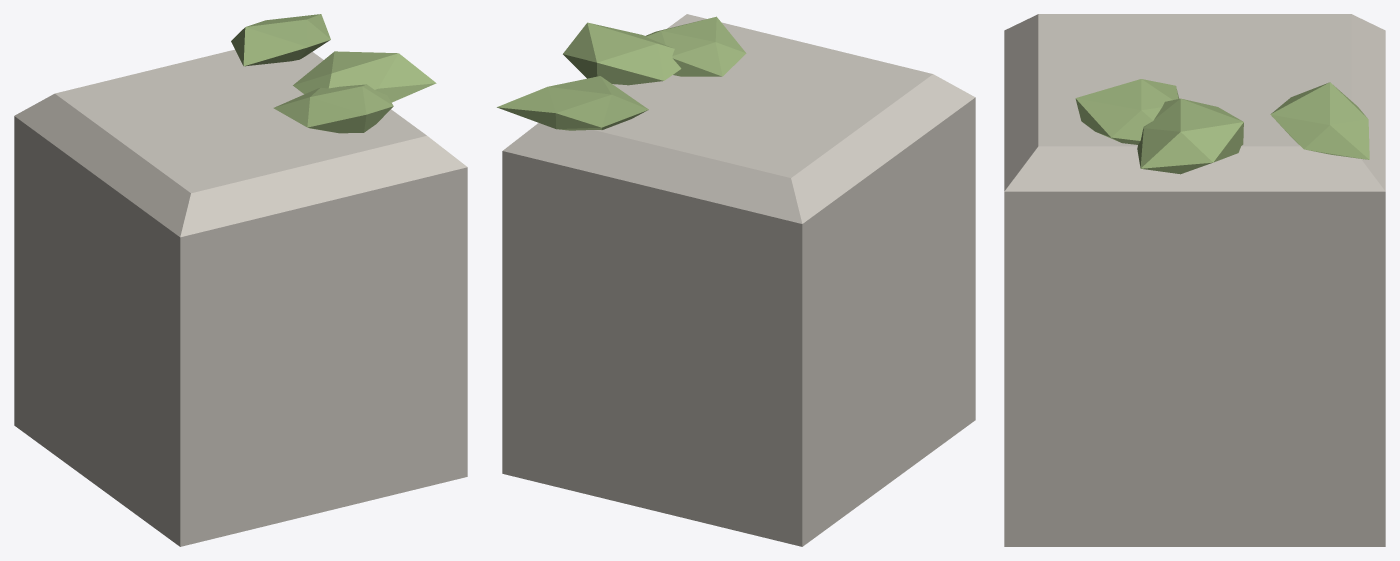
The model's file is ob_stone3.glb.
The picture shows the model from 3 angles, left to right: view 1: azimuth 30°, elevation 25°; view 2: azimuth 150°, elevation 25°; view 3: azimuth 270°, elevation 25°; orthographic projection. The views are drawn at different scales.
Size of the model in its own units: 0.0491 by 0.0543 by 0.0447.
